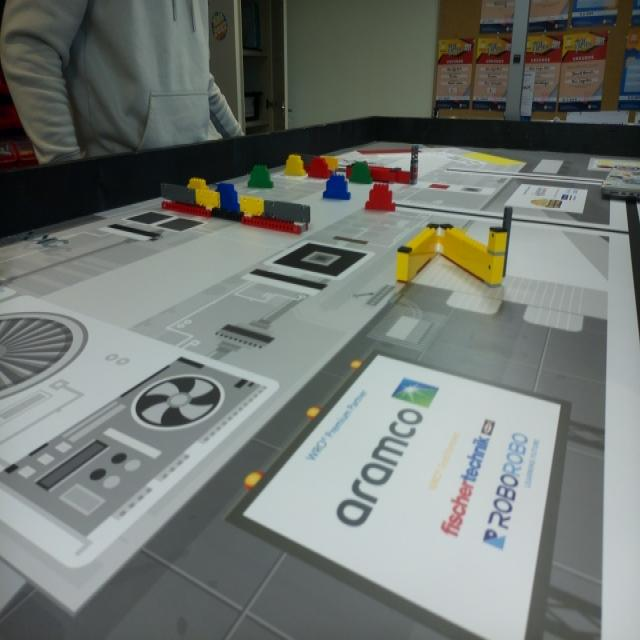blau: (322, 176, 351, 201), (218, 185, 239, 208)
gruen: (248, 166, 273, 190), (353, 163, 374, 184)
rot: (365, 185, 396, 212), (308, 158, 329, 177)
yellow: (285, 156, 304, 177), (187, 176, 207, 186)
